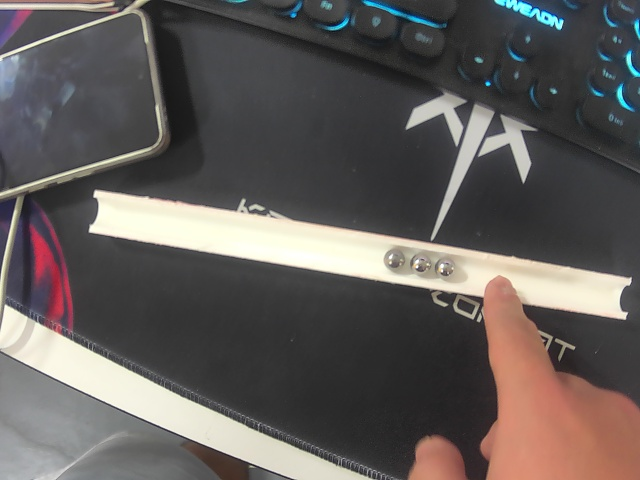steelball: (384, 248, 405, 270), (435, 257, 455, 279), (410, 253, 431, 273)
